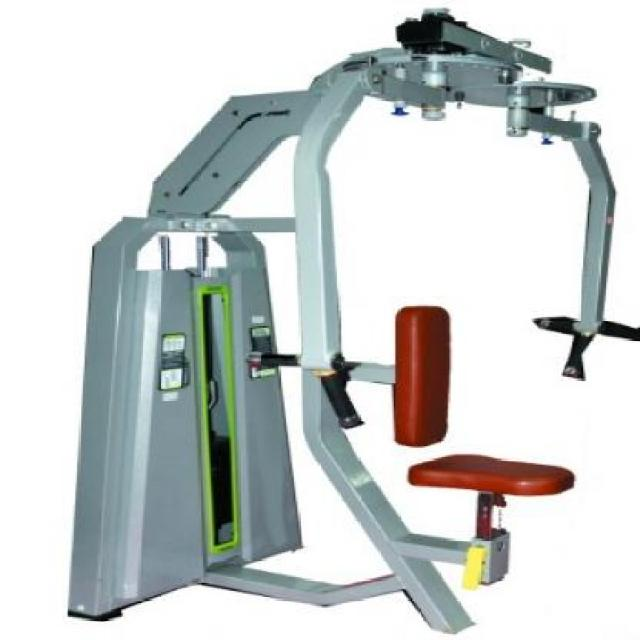chest fly machine: (34, 4, 640, 640)
